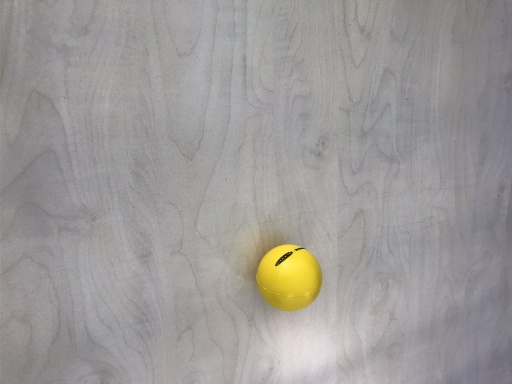Palla: (254, 243, 326, 313)
